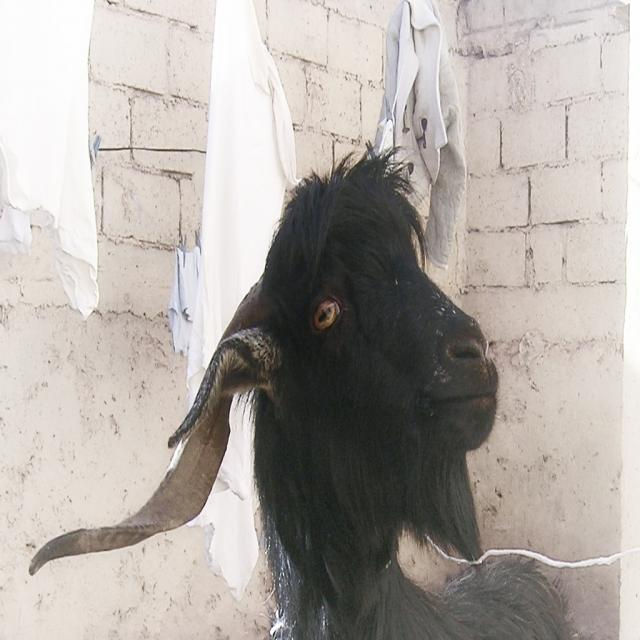Goat: (21, 130, 522, 610)
